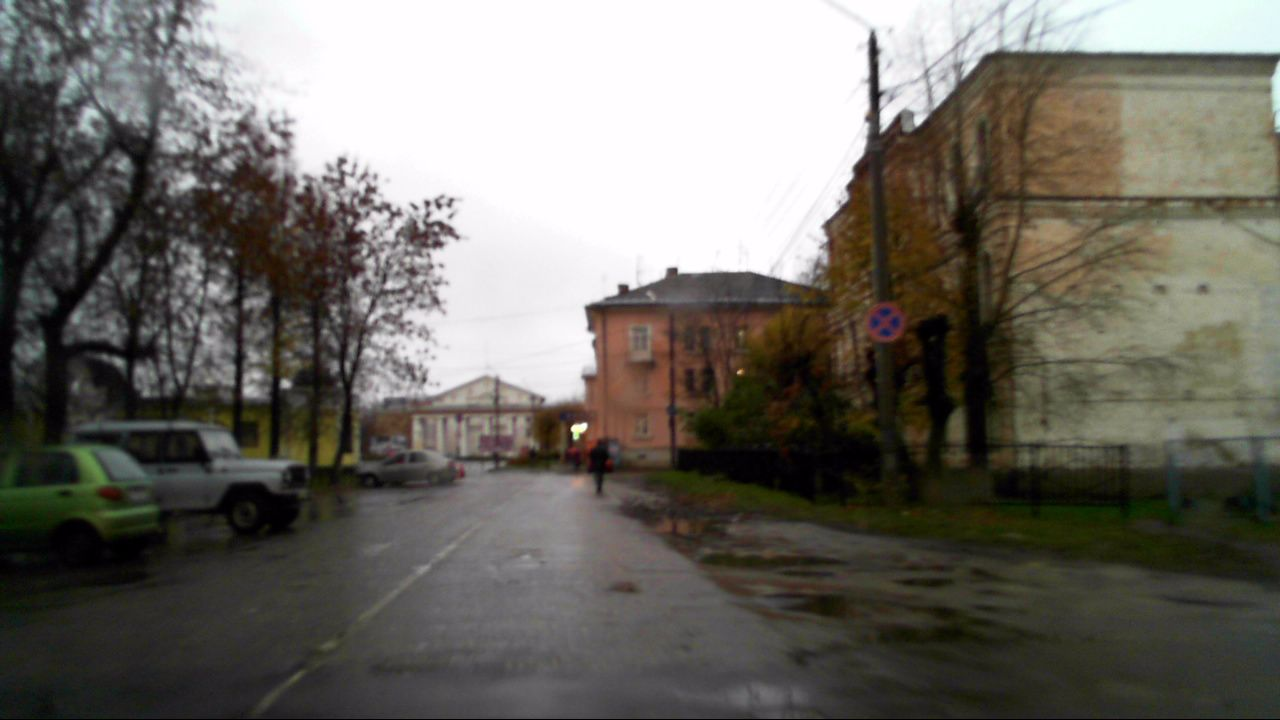No Parking: (865, 302, 905, 342)
